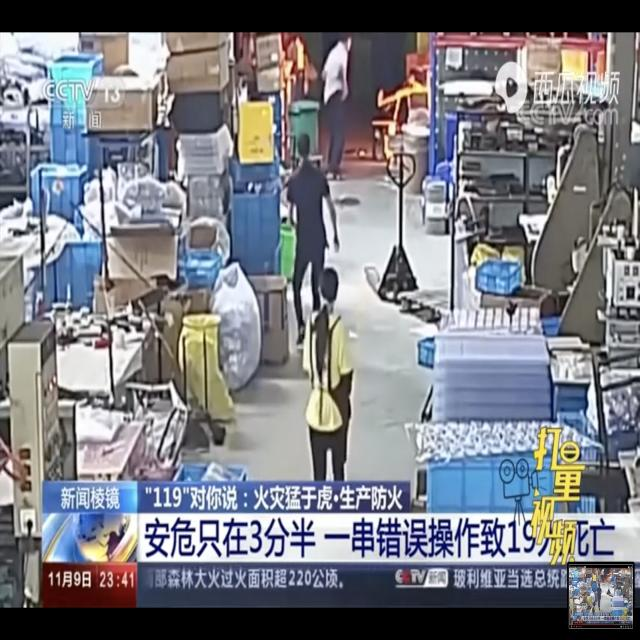Atencao: (316, 32, 448, 185)
